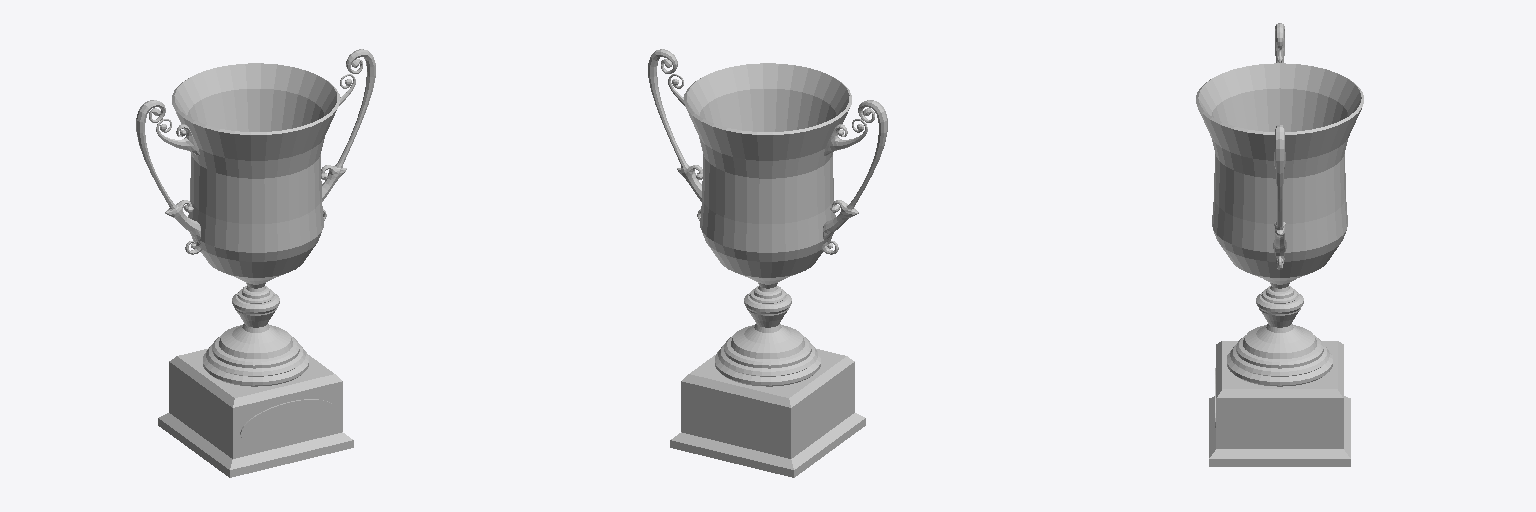
Rendered from trophy.obj.
3 views of the same model, side by side, from view 1: azimuth 30°, elevation 25°; view 2: azimuth 150°, elevation 25°; view 3: azimuth 270°, elevation 25° (orthographic).
Visible parts, largest first — view 1: trophy; view 2: trophy; view 3: trophy.
Boxes of the visible parts, x1=… form: trophy: x1=136, y1=49, x2=375, y2=477; trophy: x1=648, y1=49, x2=887, y2=477; trophy: x1=1196, y1=23, x2=1363, y2=466.
Bounding box in the file's own units: 3.12 × 4.52 × 1.91.